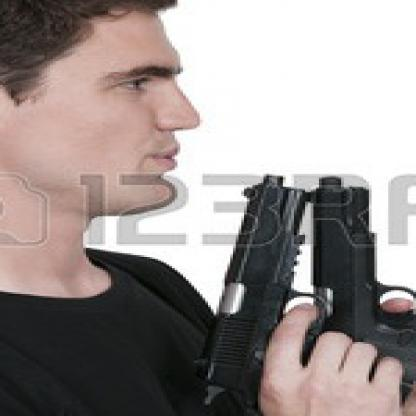gun: (186, 166, 341, 414), (311, 174, 413, 414)
